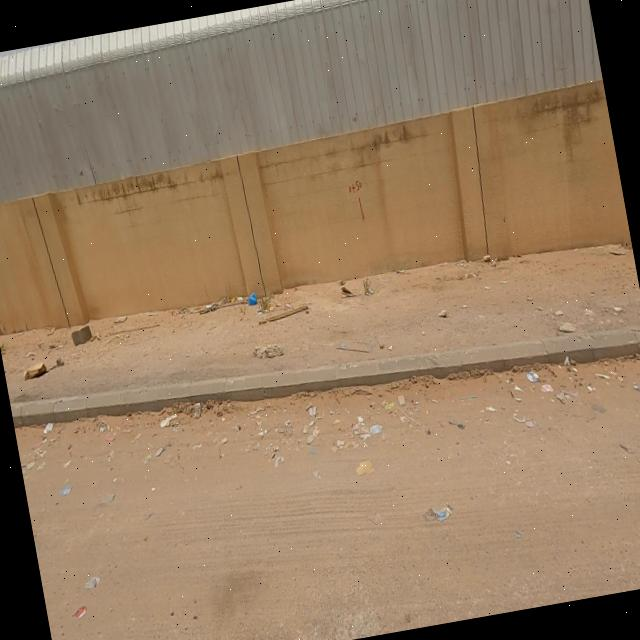Graffiti: (347, 179, 370, 222)
